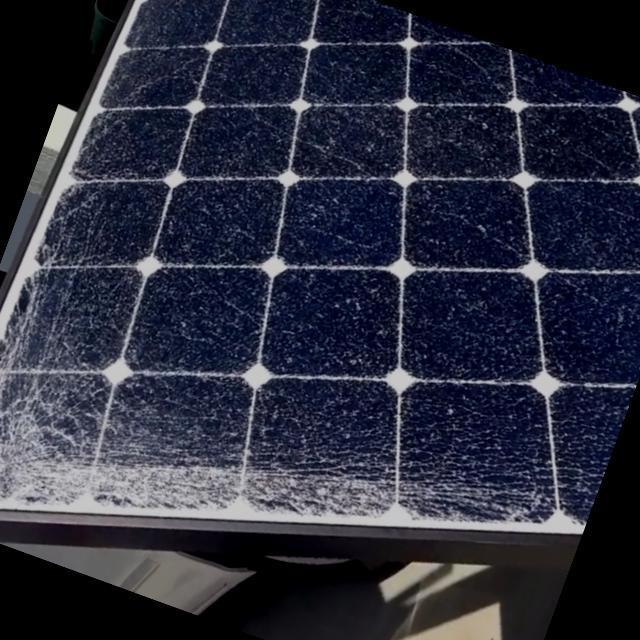faulty: (2, 0, 640, 536)
